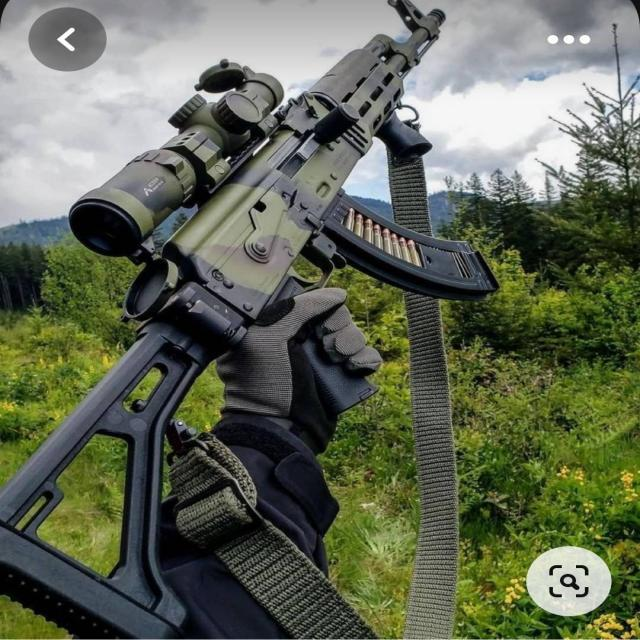m16: (261, 13, 524, 310)
